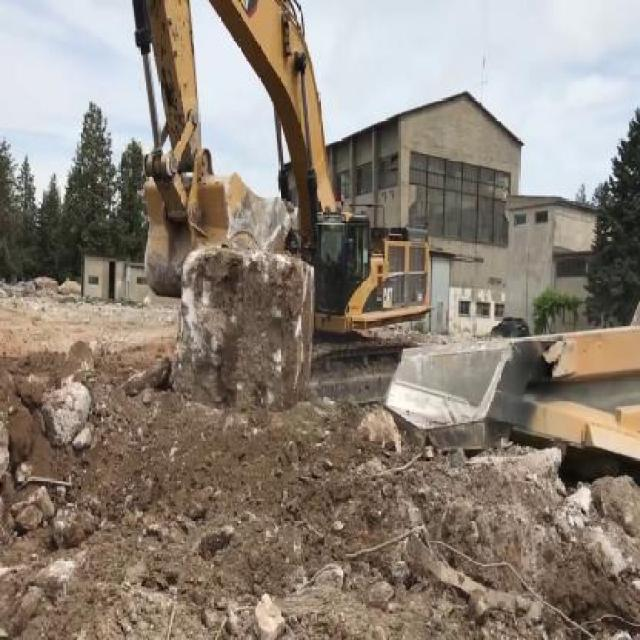excavator: (128, 0, 434, 411)
